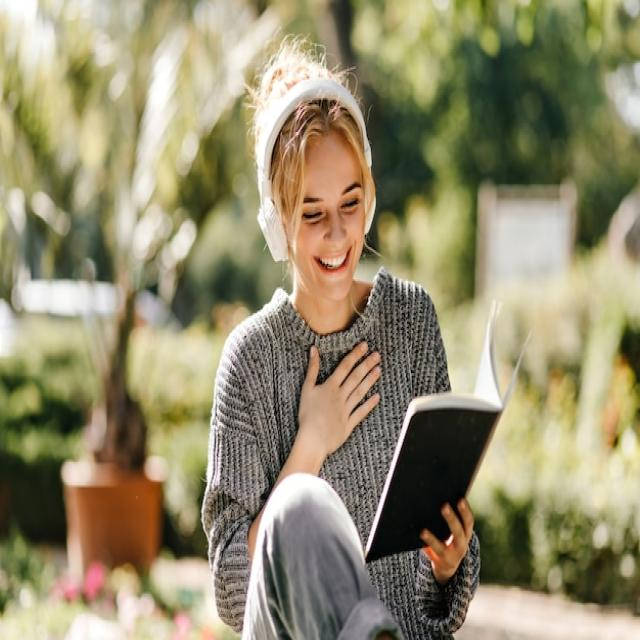Headphone: (255, 77, 378, 266)
